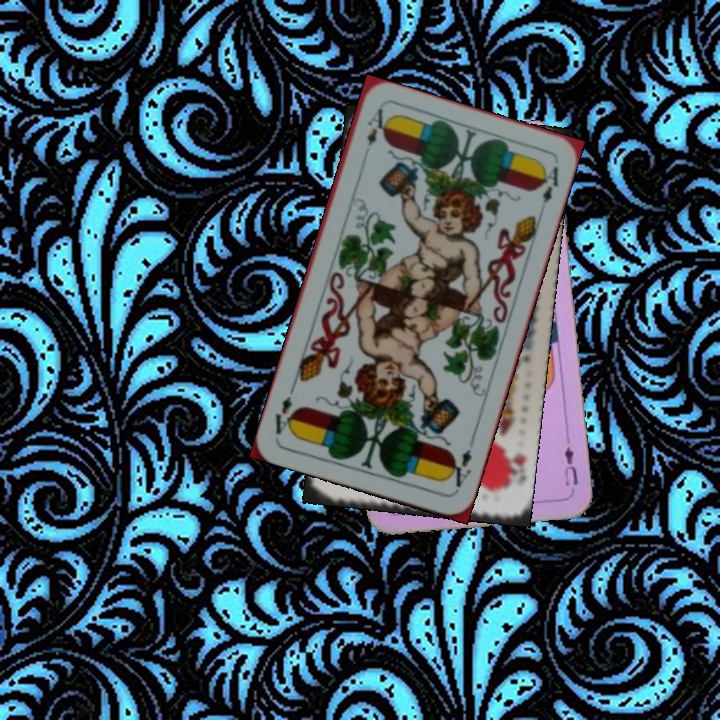EA: (444, 445, 475, 490), (362, 104, 388, 148)
EU: (560, 441, 580, 488)
HK: (501, 445, 529, 475)
